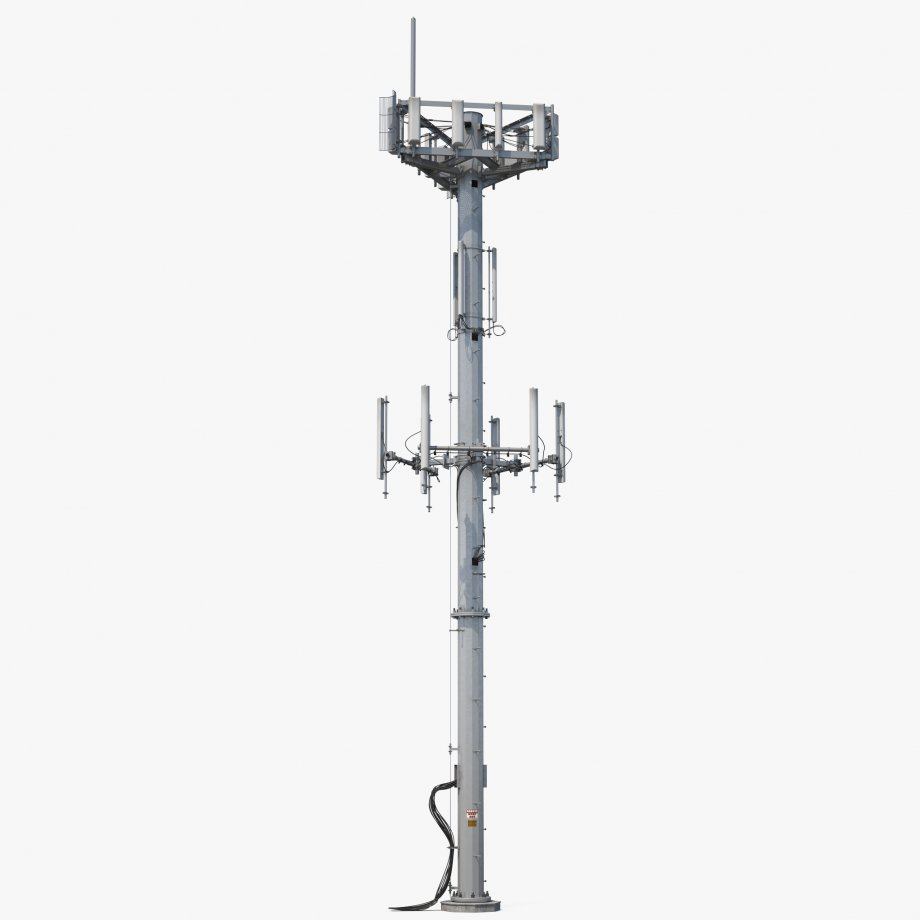a: (418, 382, 435, 513), (550, 395, 568, 505), (374, 392, 392, 502), (525, 385, 541, 497), (485, 239, 502, 341), (487, 412, 502, 514), (454, 238, 468, 338), (447, 97, 468, 156), (490, 99, 508, 157), (530, 99, 547, 158), (407, 93, 422, 153)
